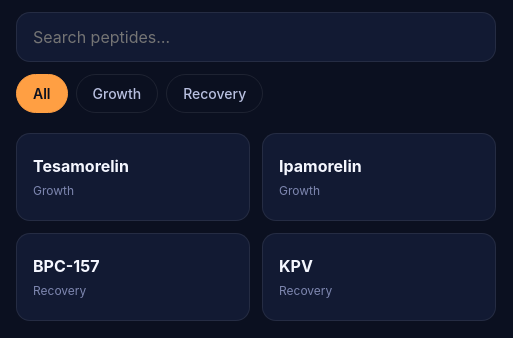
Test: PeptidesTab › filters by category and toggles aria-pressed
Click the button "Recovery".
click(215, 94)  # box left=166, top=74, right=263, bottom=113
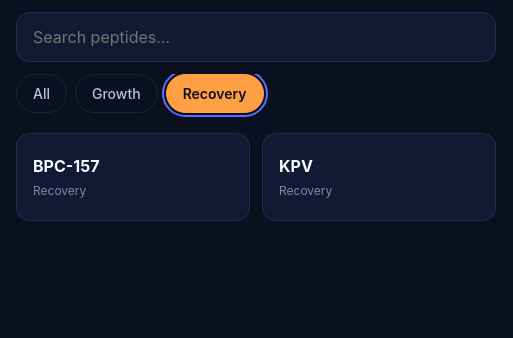
Result: the number of list items is 2 at left=16, top=133, right=250, bottom=221; left=262, top=133, right=496, bottom=221
